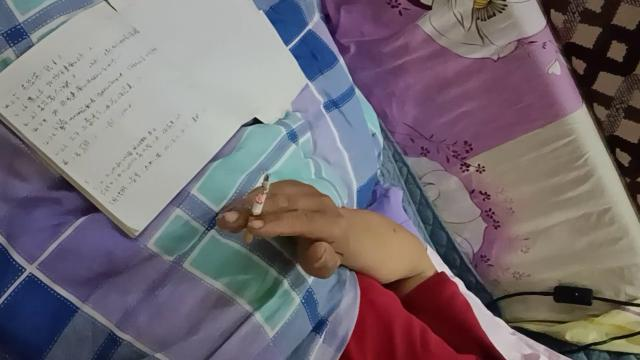Smoking: (242, 173, 272, 243)
